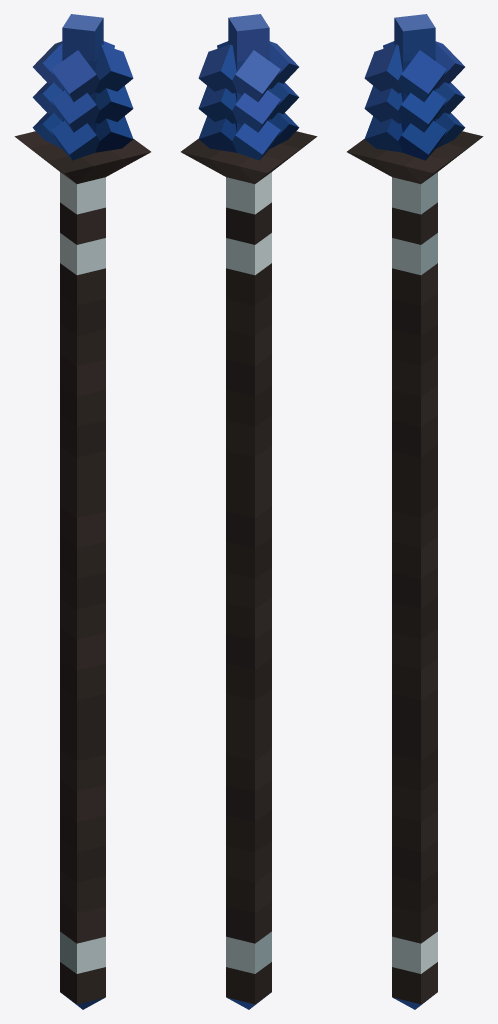
Rendered from staff_lapis.obj.
3 renders of one model, left to right at view 1: azimuth 30°, elevation 25°; view 2: azimuth 150°, elevation 25°; view 3: azimuth 330°, elevation 25°, orthographic.
Parts seen in each view (by area): view 1: STAFF_VAR15_Cube.047; view 2: STAFF_VAR15_Cube.047; view 3: STAFF_VAR15_Cube.047.
Boxes of the visible parts, x1,y1,x2,y2 form: STAFF_VAR15_Cube.047: (14,14,150,1009); STAFF_VAR15_Cube.047: (181,14,317,1009); STAFF_VAR15_Cube.047: (347,14,483,1009).
Bounding box in the file's own units: 0.1875 × 2.03 × 0.1875.
